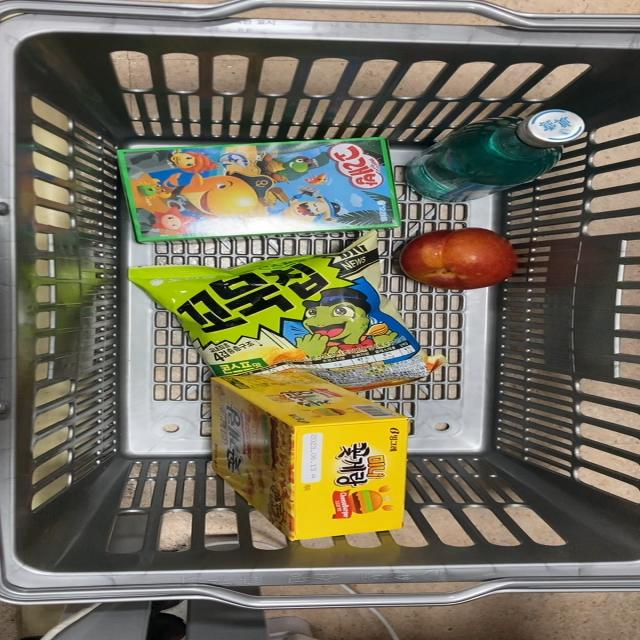ggobukchip: (131, 240, 452, 419)
goraebob: (117, 141, 400, 247)
jinro: (400, 98, 602, 214)
minicrab: (206, 371, 421, 546)
plum: (390, 228, 539, 298)
